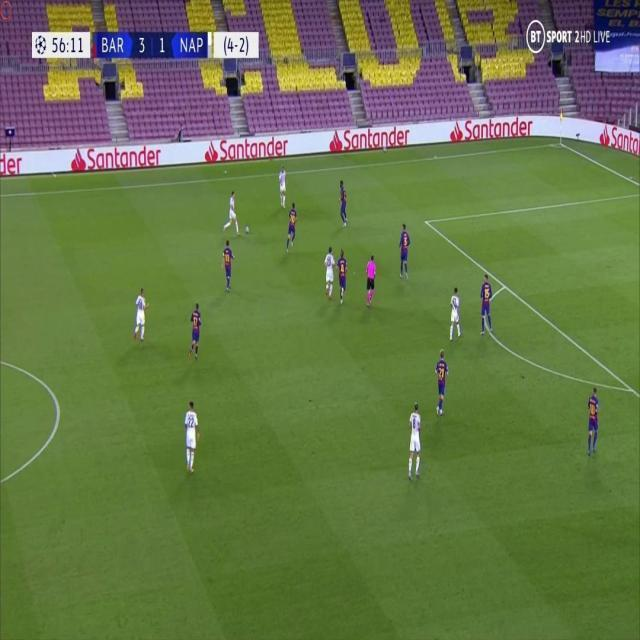ball: (244, 223, 250, 234)
player: (182, 397, 201, 476), (406, 398, 423, 482), (432, 345, 449, 418), (585, 382, 601, 456), (478, 271, 494, 339), (188, 299, 204, 361), (132, 285, 149, 342), (397, 221, 412, 281), (220, 238, 236, 292), (448, 285, 462, 343), (223, 189, 240, 236), (322, 244, 336, 299), (337, 247, 350, 303), (285, 200, 298, 252), (336, 178, 349, 228), (277, 159, 289, 208)
referee: (365, 251, 377, 306)
